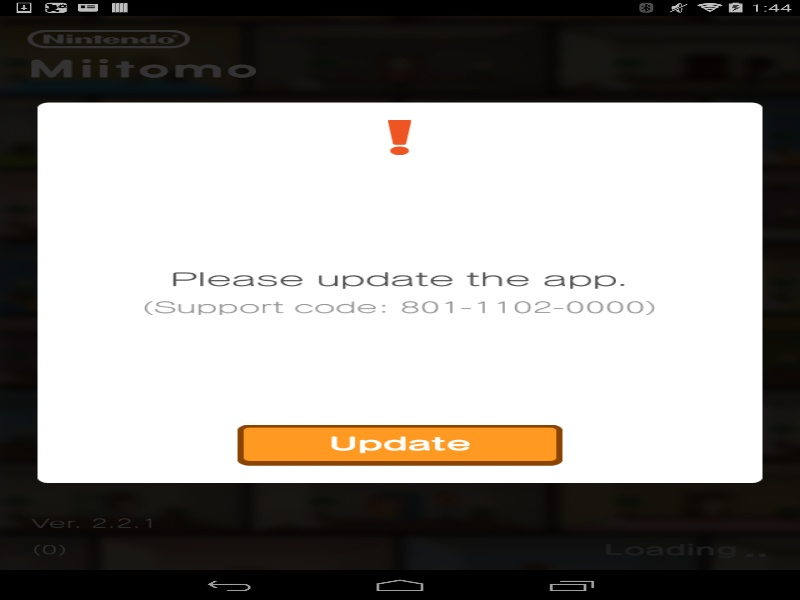Input: (0, 15, 800, 45)
